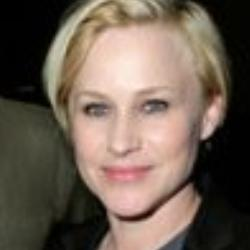face: (31, 2, 229, 226)
